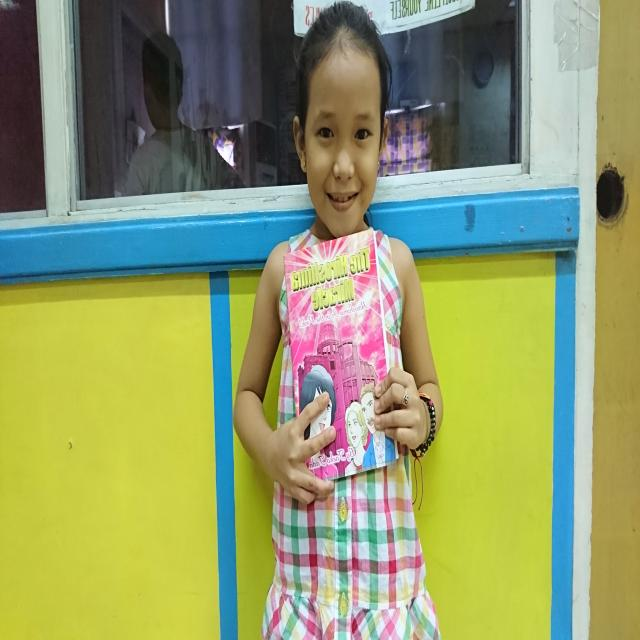child: (230, 1, 446, 640)
